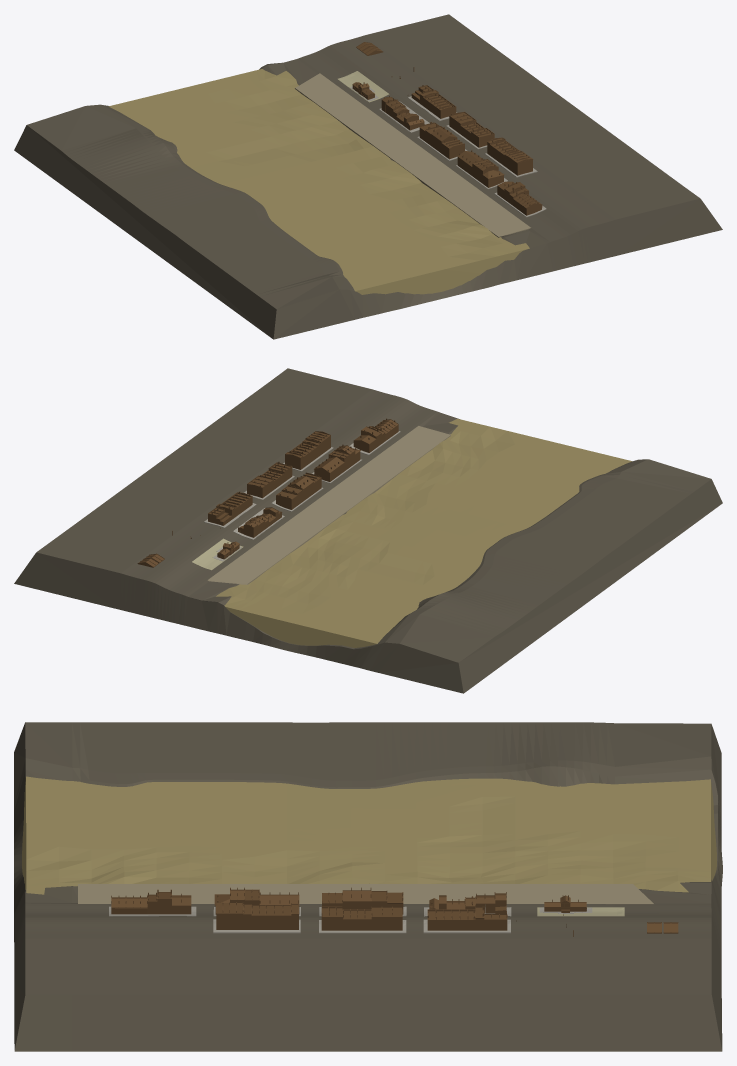
The model's file is busy-levee-low-poly-city.fbx.
3 views of the same model, one above another, from view 1: azimuth 30°, elevation 25°; view 2: azimuth 150°, elevation 25°; view 3: azimuth 270°, elevation 25° (orthographic). The views are drawn at different scales.
Visible parts, largest first — view 1: Ground, RIver_River, Wharf_Levve_Wharf, Blocks, Sidewalks; view 2: Ground, RIver_River, Wharf_Levve_Wharf, Blocks, Sidewalks; view 3: Ground, RIver_River, Blocks, Wharf_Levve_Wharf, Sidewalks, Market_Dirt.
Boxes of the visible parts, x1=… form: Ground: x1=14, y1=14, x2=722, y2=339; RIver_River: x1=108, y1=69, x2=529, y2=294; Wharf_Levve_Wharf: x1=295, y1=73, x2=530, y2=237; Blocks: x1=352, y1=42, x2=542, y2=215; Sidewalks: x1=350, y1=86, x2=546, y2=217; Ground: x1=14, y1=368, x2=722, y2=693; RIver_River: x1=216, y1=418, x2=632, y2=647; Wharf_Levve_Wharf: x1=207, y1=426, x2=450, y2=584; Blocks: x1=137, y1=418, x2=398, y2=567; Sidewalks: x1=204, y1=431, x2=400, y2=561; Ground: x1=14, y1=722, x2=722, y2=1051; RIver_River: x1=22, y1=776, x2=716, y2=894; Blocks: x1=111, y1=887, x2=678, y2=936; Wharf_Levve_Wharf: x1=78, y1=884, x2=653, y2=904; Sidewalks: x1=109, y1=906, x2=592, y2=933; Market_Dirt: x1=537, y1=907, x2=624, y2=916.
Bounding box in the file's own units: 16 × 1.6 × 16.02.
